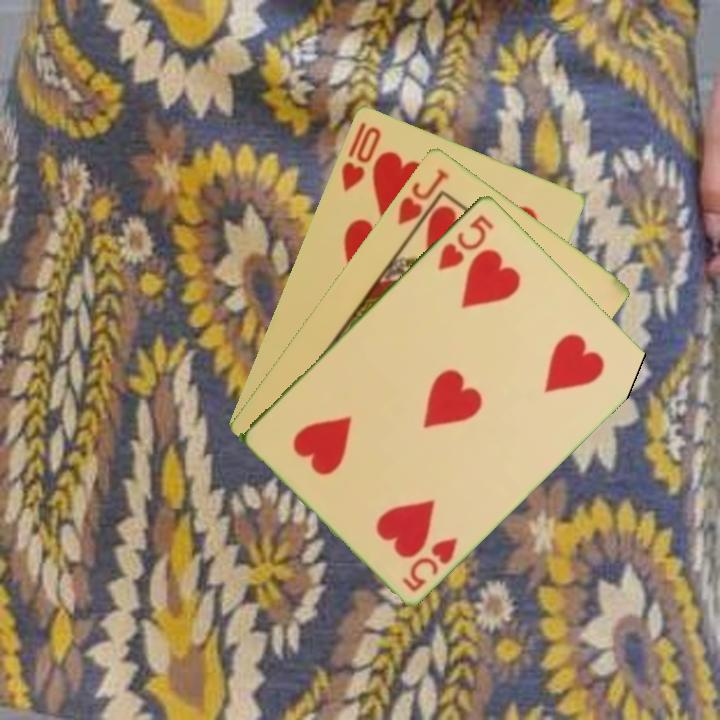10h: (337, 122, 384, 194)
5h: (434, 210, 497, 273), (398, 533, 461, 595)
Jh: (394, 164, 452, 227)
